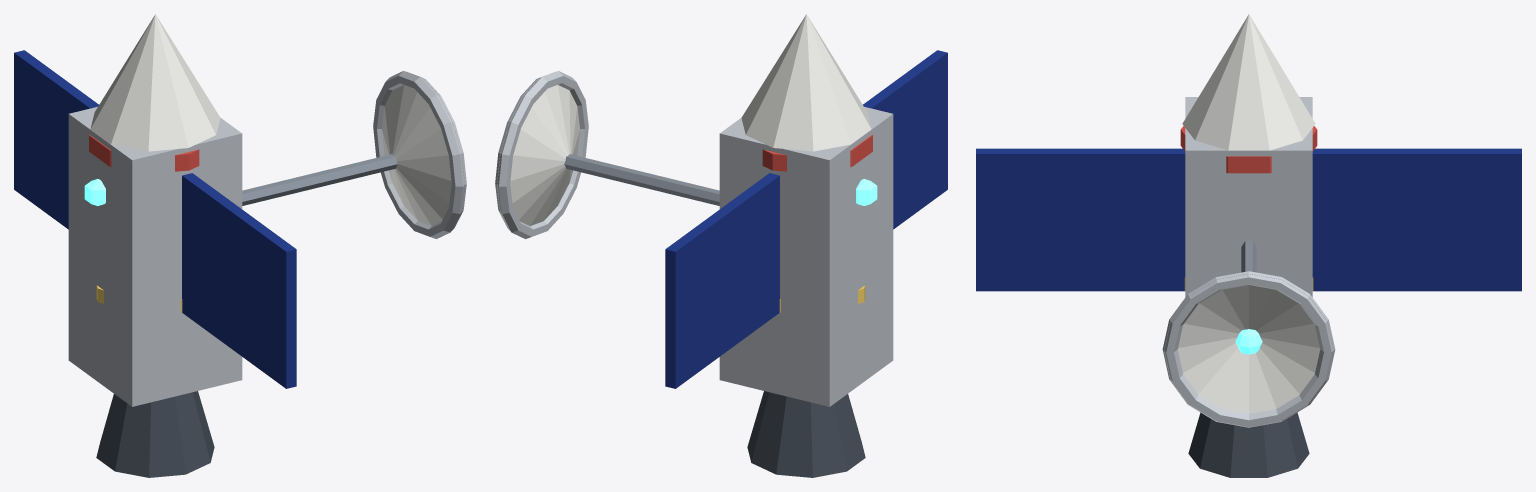
File: vehicle_solar.glb
3 renders of one model, left to right at view 1: azimuth 30°, elevation 25°; view 2: azimuth 150°, elevation 25°; view 3: azimuth 270°, elevation 25°, orthographic.
Visible parts, largest first — view 1: vehicle_solar; view 2: vehicle_solar; view 3: vehicle_solar.
Part boxes in pixels (x1,y1,x2,y2): vehicle_solar: (14,14,466,477); vehicle_solar: (495,14,947,477); vehicle_solar: (976,14,1521,477).
Size of the model in its own units: 1.61 by 2 by 2.25.
